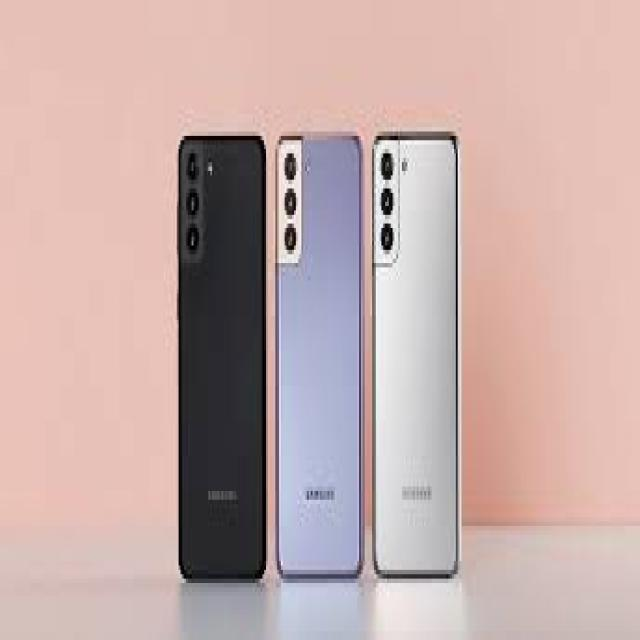phone: (370, 129, 463, 579)
